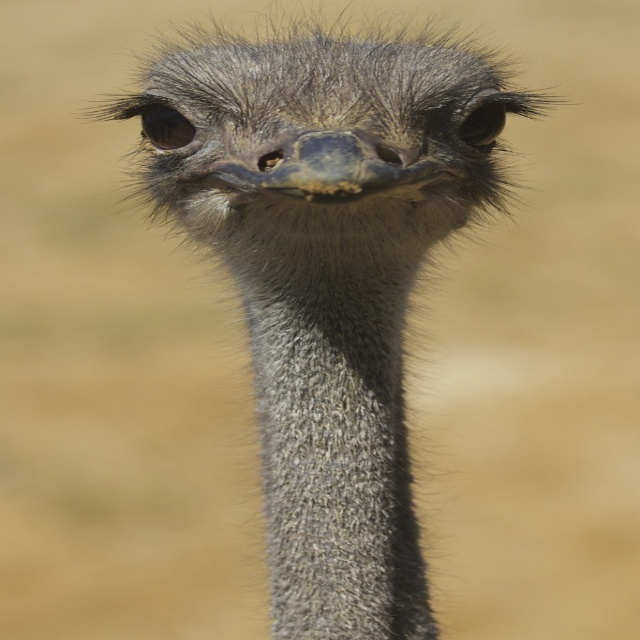Ostrich: (94, 31, 561, 637)
